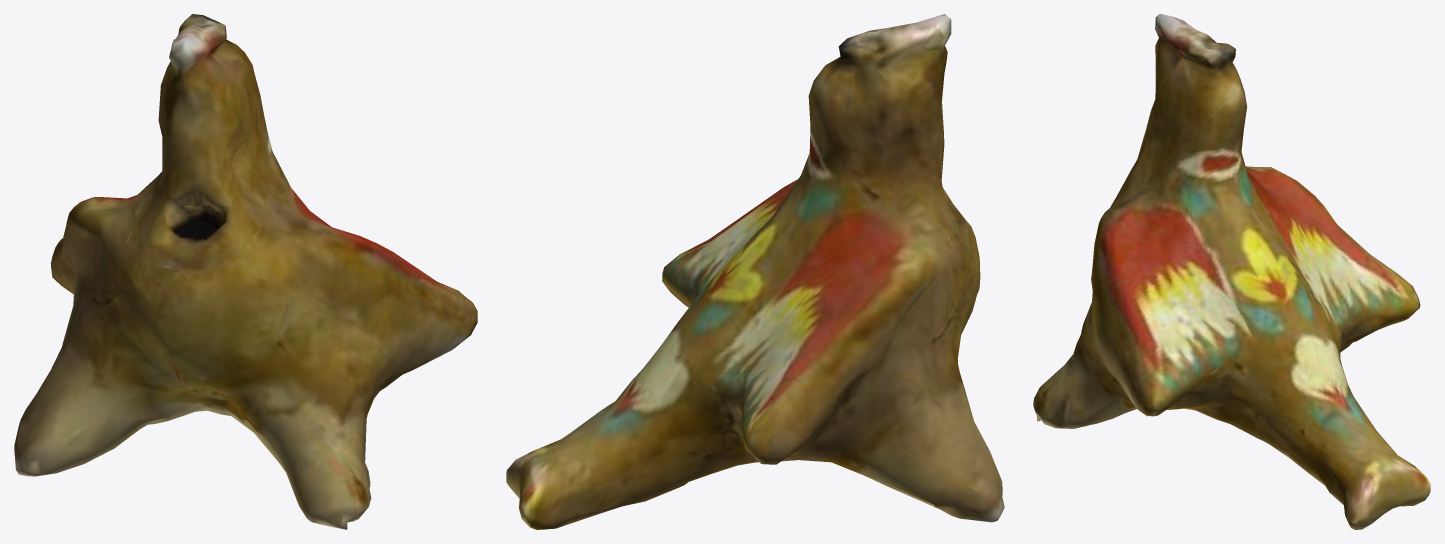
File: hall.glb
3 views of the same model, side by side, from view 1: azimuth 30°, elevation 25°; view 2: azimuth 150°, elevation 25°; view 3: azimuth 270°, elevation 25° (orthographic). The views are drawn at different scales.
Bounding box in the file's own units: 0.3895 × 0.4074 × 0.3732.
1 material, 1 textured.
